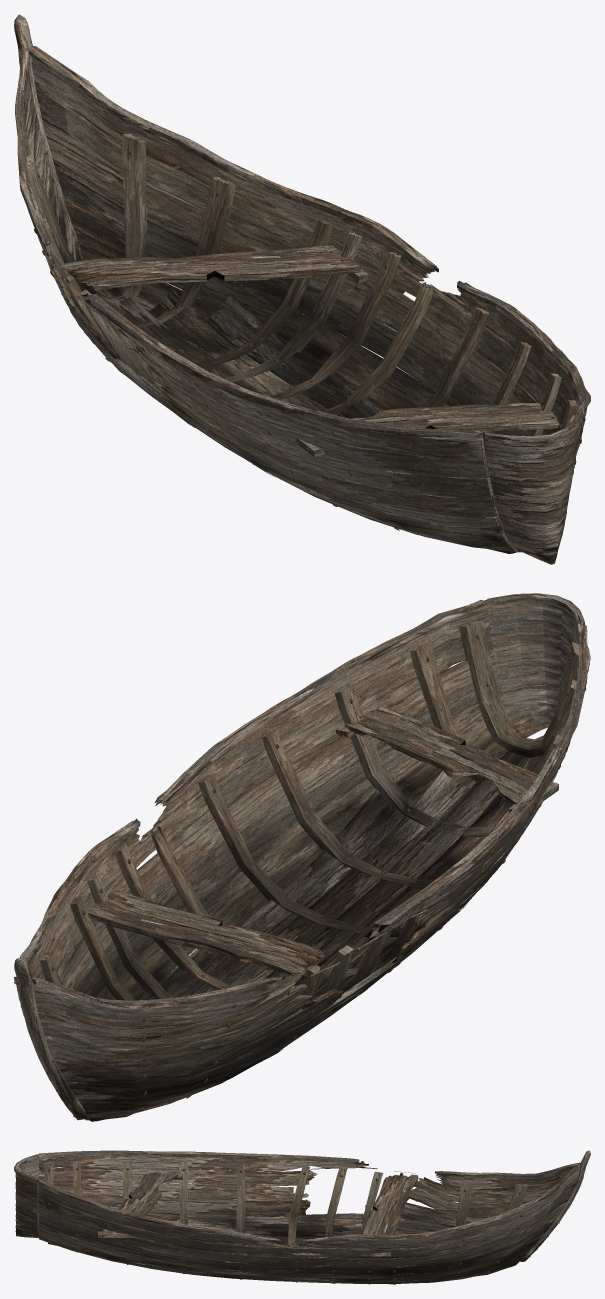
File: Model_SkiffB27.glb
The picture shows the model from 3 angles, top to bottom: view 1: azimuth 30°, elevation 25°; view 2: azimuth 150°, elevation 25°; view 3: azimuth 270°, elevation 25°; orthographic projection. The views are drawn at different scales.
Parts seen in each view (by area): view 1: WoodHull, IronFasteners; view 2: WoodHull, IronFasteners; view 3: WoodHull, IronFasteners.
Part boxes in pixels (x1,y1,x2,y2): WoodHull: (14, 14, 590, 564); IronFasteners: (34, 151, 585, 547); WoodHull: (14, 593, 590, 1121); IronFasteners: (21, 634, 585, 1117); WoodHull: (14, 1150, 590, 1284); IronFasteners: (47, 1161, 585, 1284).
Size of the model in its own units: 1.53 by 1.1 by 4.6.
4 materials, 3 textured.
